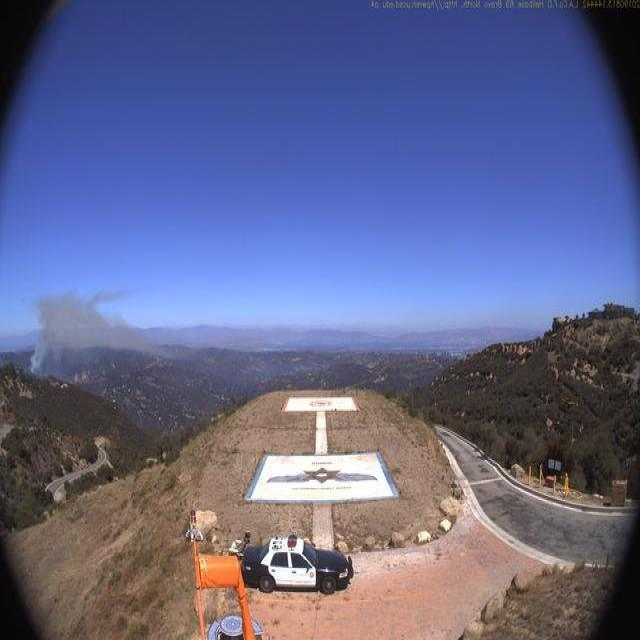Smoke: (23, 283, 155, 384)
